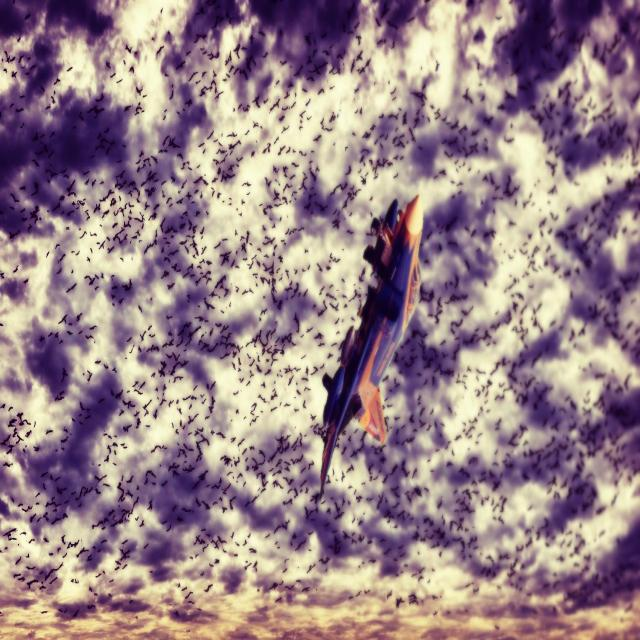airplane: (318, 193, 424, 500)
